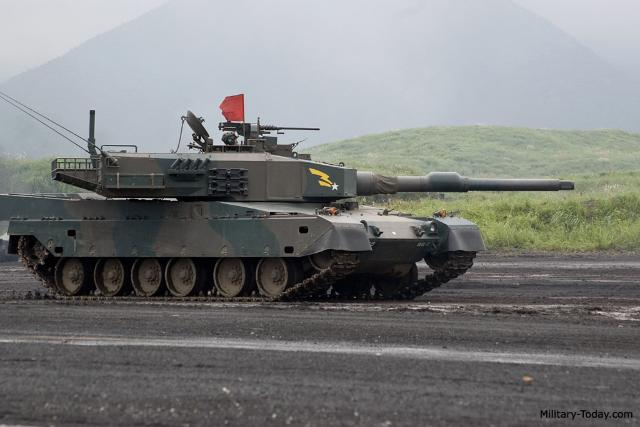other: (222, 131, 240, 145)
tank: (0, 110, 482, 296)
